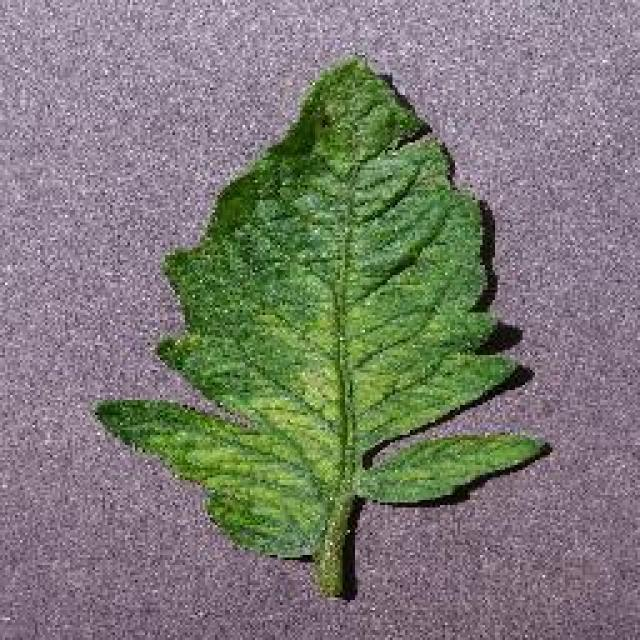Tomato spider mites leaf: (92, 49, 552, 556)
